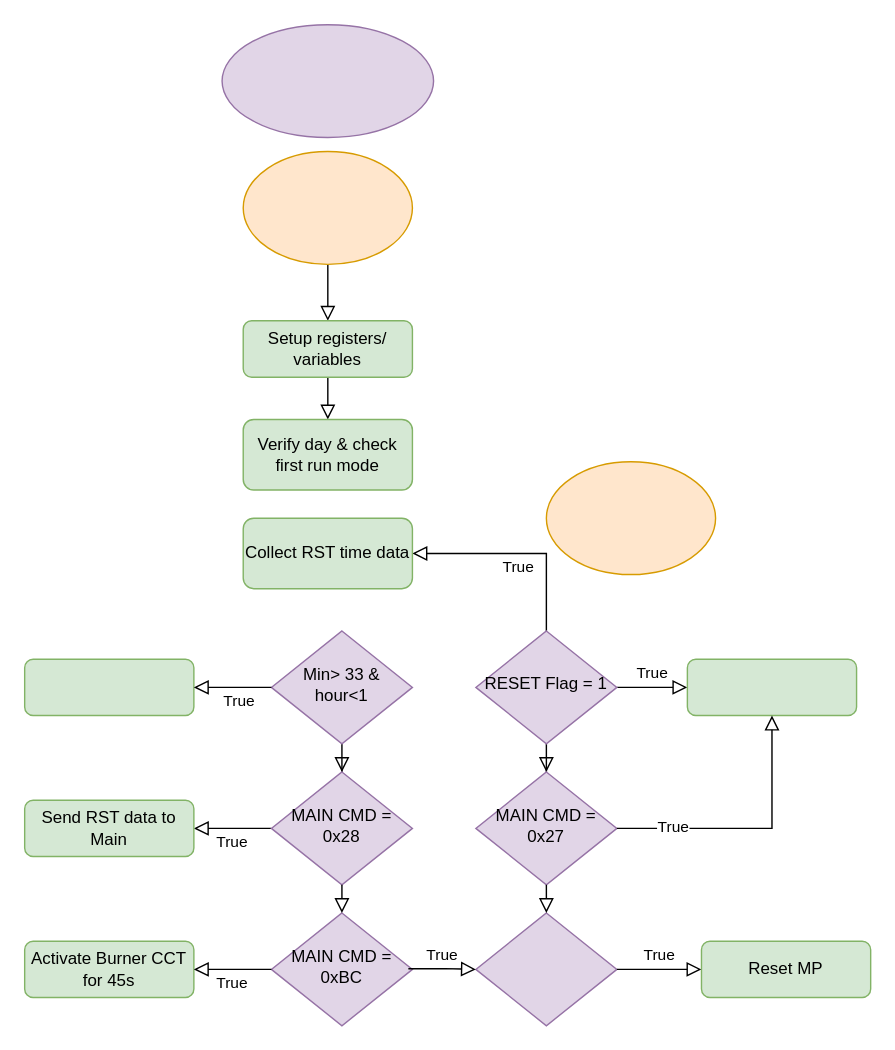
Image size: 895x1050. Some labels were removed from this diagram. The centre of each missing label's shape, as x and y in pixels:
MAIN Count = 3600s: [545,969]
RESET LOOP: [630,517]
RESET PIC: [327,80]
Reset satellite: [771,687]
START: [327,207]
Turn on Com and Transceiver: [108,687]
